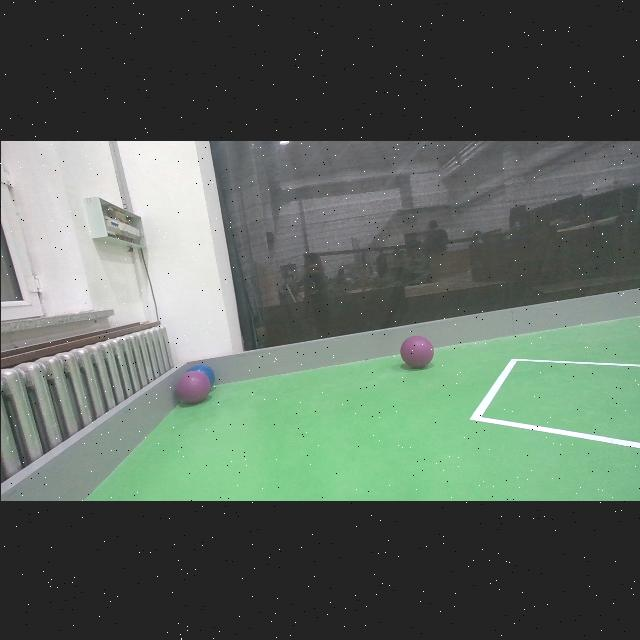B: (186, 363, 214, 387)
P: (177, 371, 210, 404), (400, 334, 432, 368)
